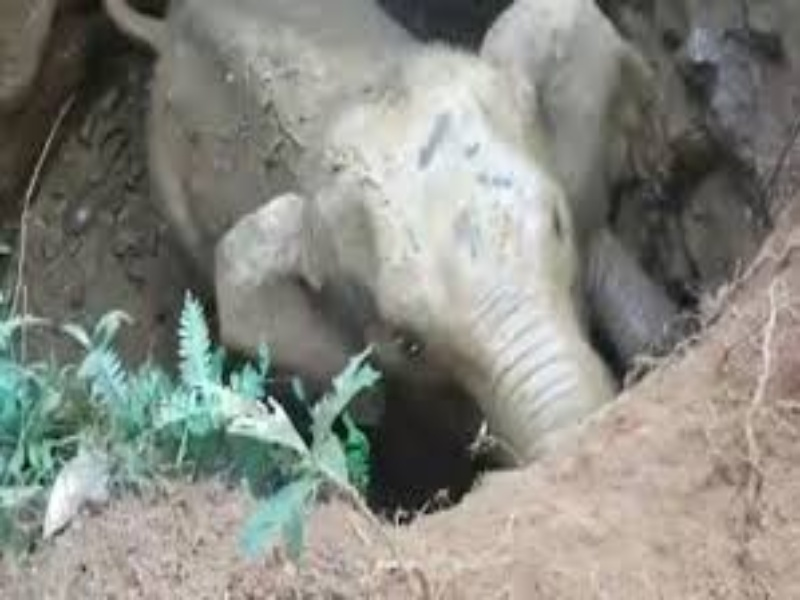elephant: (196, 74, 674, 476)
